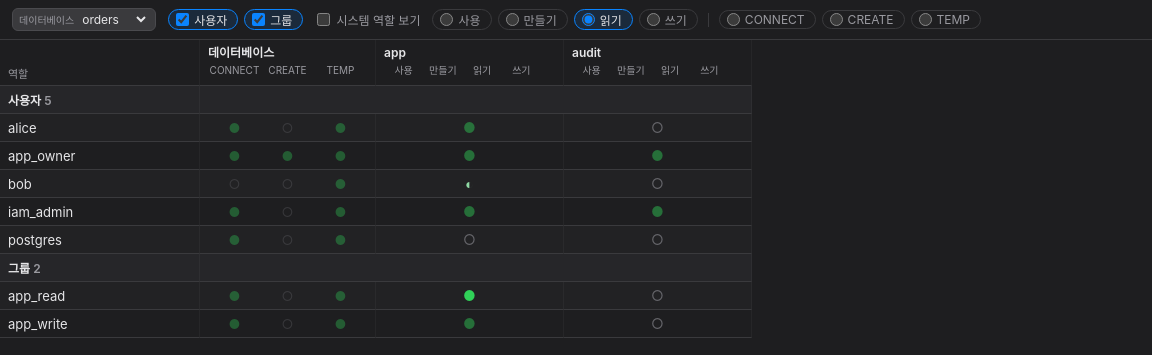
Test case: the database column › with CONNECT a database cell shows only that: app_read is CONNECT 직접 받음
Click the radio button labelled "CONNECT" at (733, 20), box [727,13,740,26]
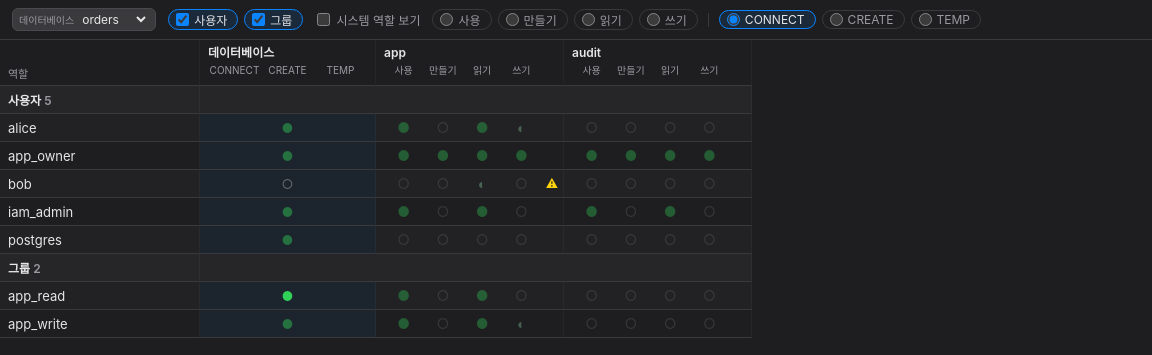
Check: the cell "●" next to "app_read" is shown, box [282,288,293,304]
